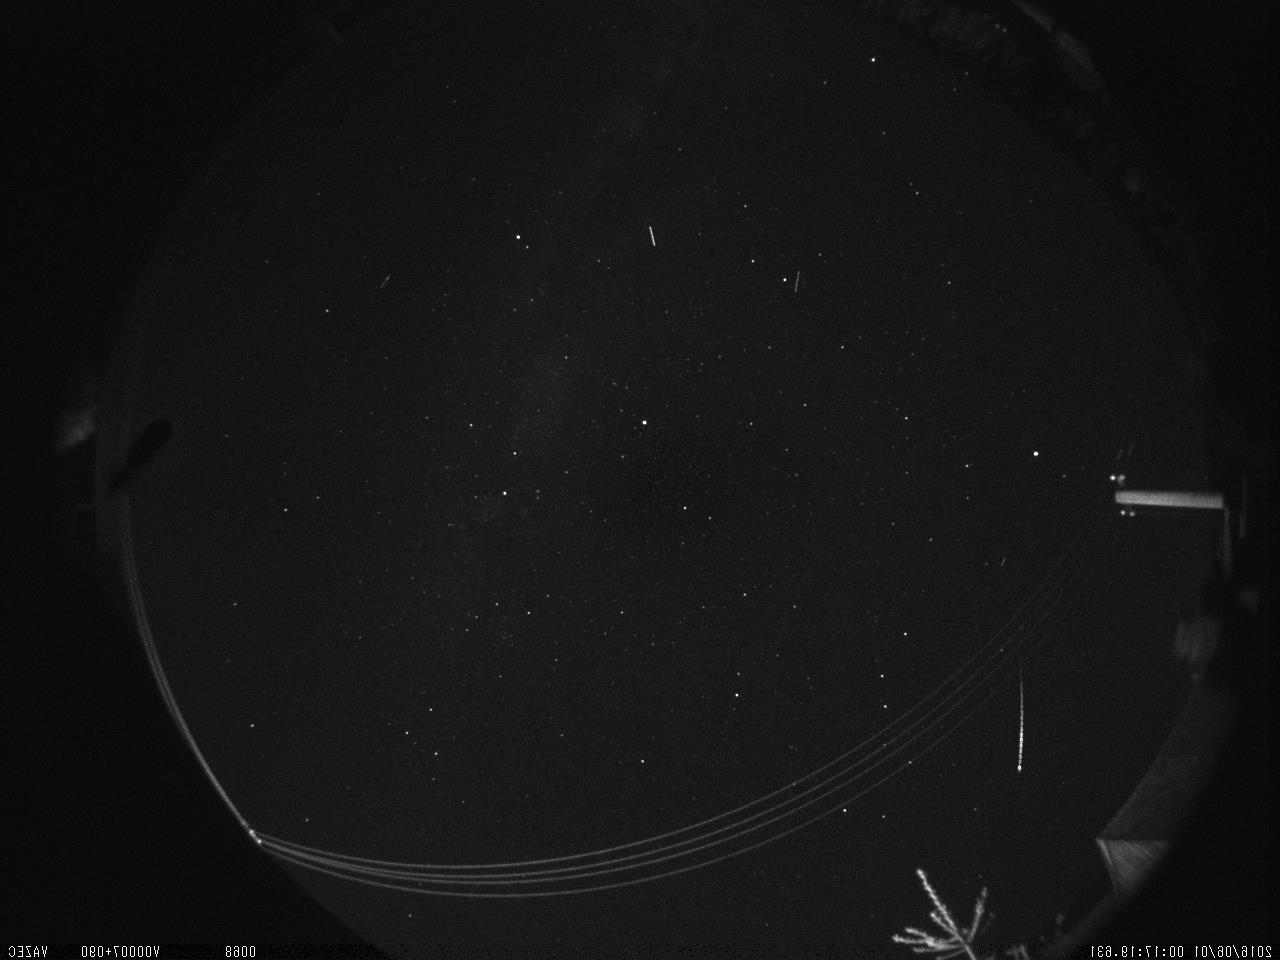meteor: (1000, 652, 1037, 778)
satelite: (644, 220, 664, 254)
